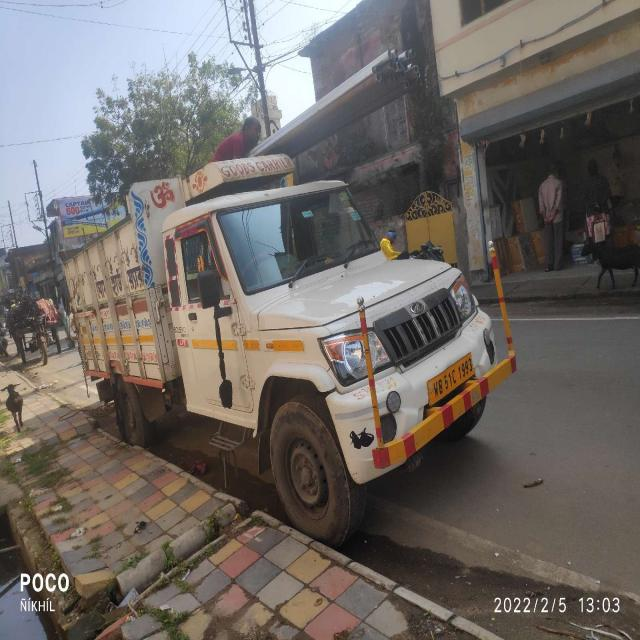light_vehicle: (78, 182, 506, 433)
